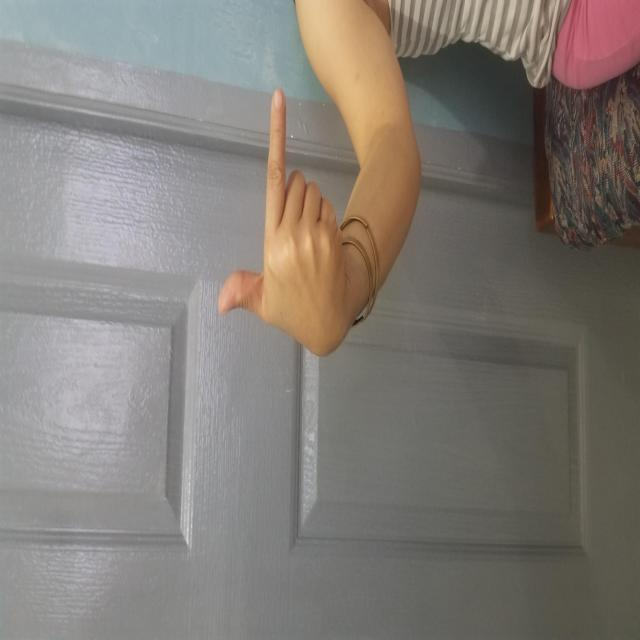G: (279, 218, 551, 347)
